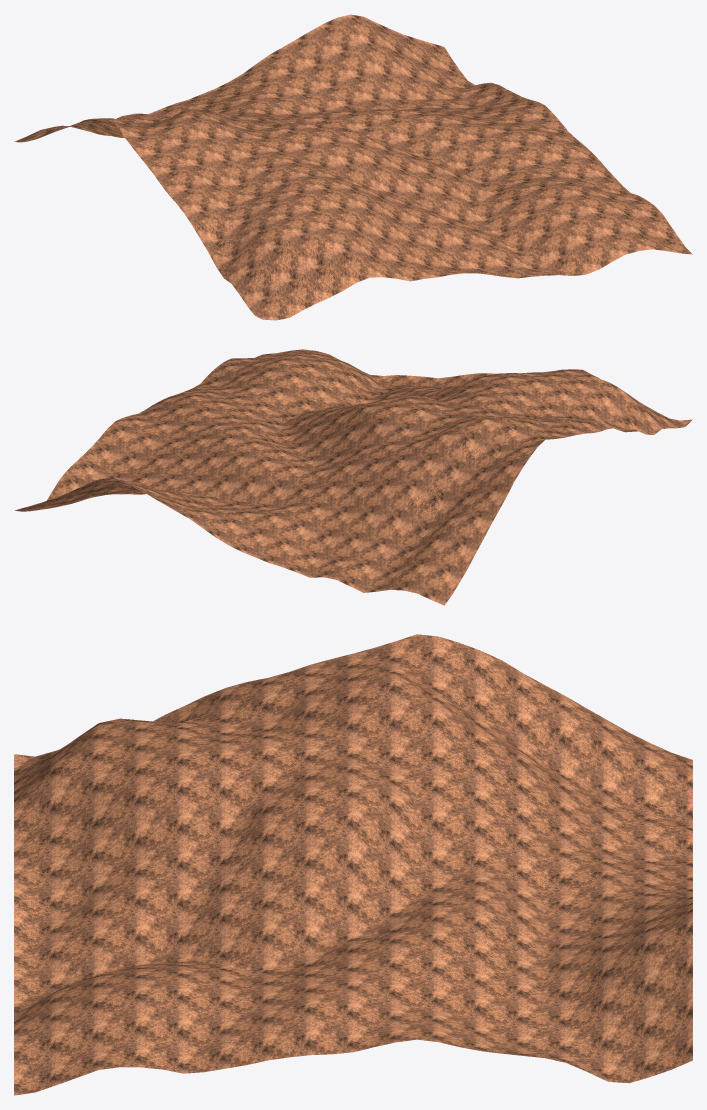
File: terrain_06_05.dae
3 views of the same model, one above another, from view 1: azimuth 30°, elevation 25°; view 2: azimuth 150°, elevation 25°; view 3: azimuth 270°, elevation 25° (orthographic). The views are drawn at different scales.
Visible parts, largest first — view 1: terrain_06_05-node; view 2: terrain_06_05-node; view 3: terrain_06_05-node.
Boxes of the visible parts, x1,y1,x2,y2 form: terrain_06_05-node: [14, 14, 692, 320]; terrain_06_05-node: [15, 349, 692, 605]; terrain_06_05-node: [14, 634, 692, 1095].
Bounding box in the file's own units: 128 × 128 × 36.28.
1 material, 1 textured.
